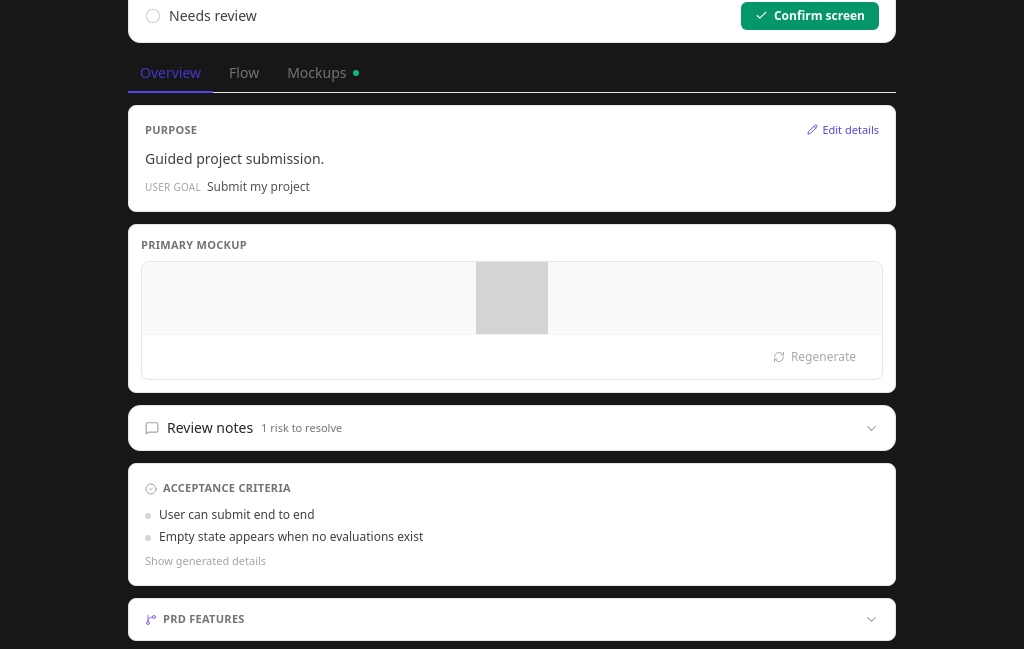
review notes › flags issues behind a collapsed banner and lets the user address them
Click the text "Review notes" at (210, 428), box [167, 418, 253, 438]
(page scrolled)
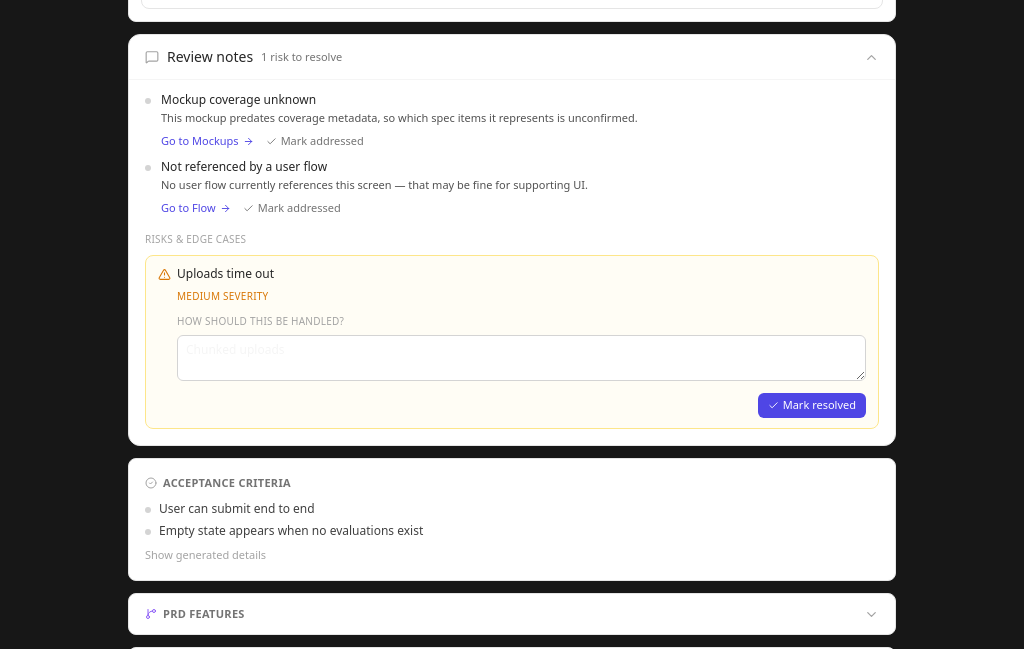
expect the text "How should this be handled?" is shown: met, box [177, 314, 344, 328]
